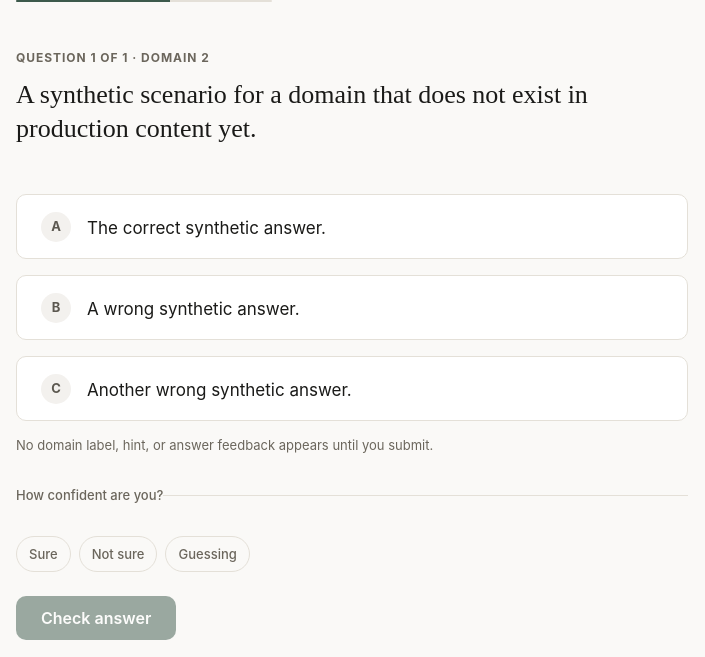
Test: QuestionAttemptFlow — shared question/answer/feedback/repair primitive › 3. correct feedback is returned and rendered for a correct answer
Click the text "The correct synthetic answer." at (206, 228), box [87, 218, 326, 238]
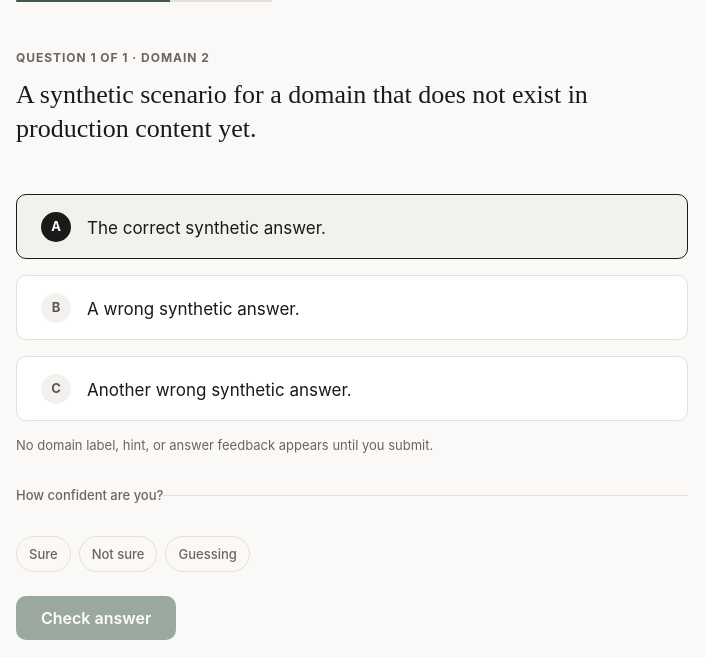
Click the radio button labelled "Sure" at (43, 554), box [16, 536, 71, 572]
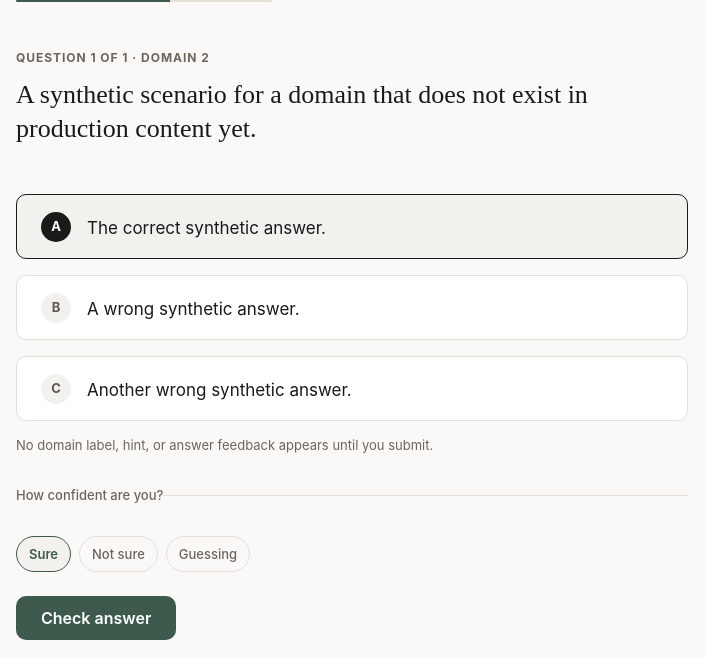
Click the button "Check answer" at (96, 618), box [16, 596, 176, 640]
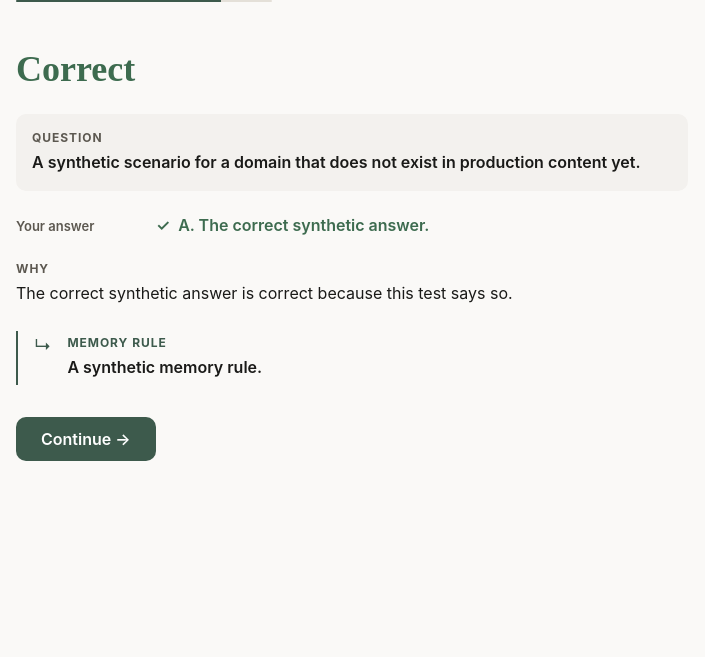
expect the heading "Correct" is shown: met, box [16, 49, 135, 89]
